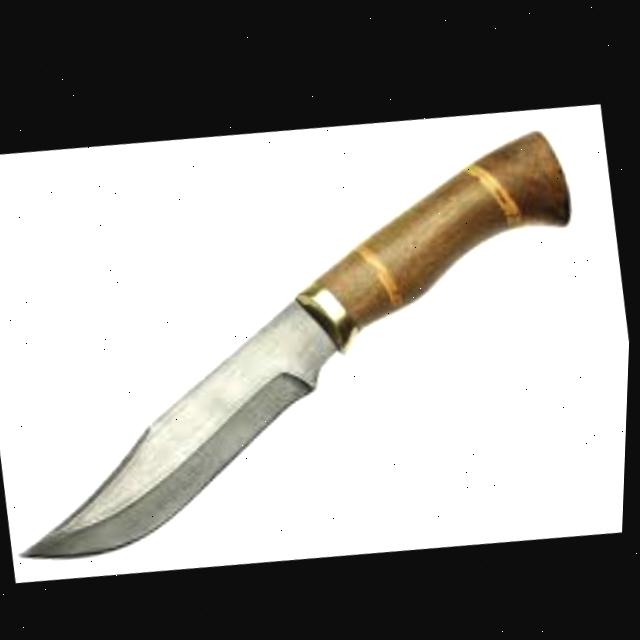Knife: (0, 83, 623, 594)
